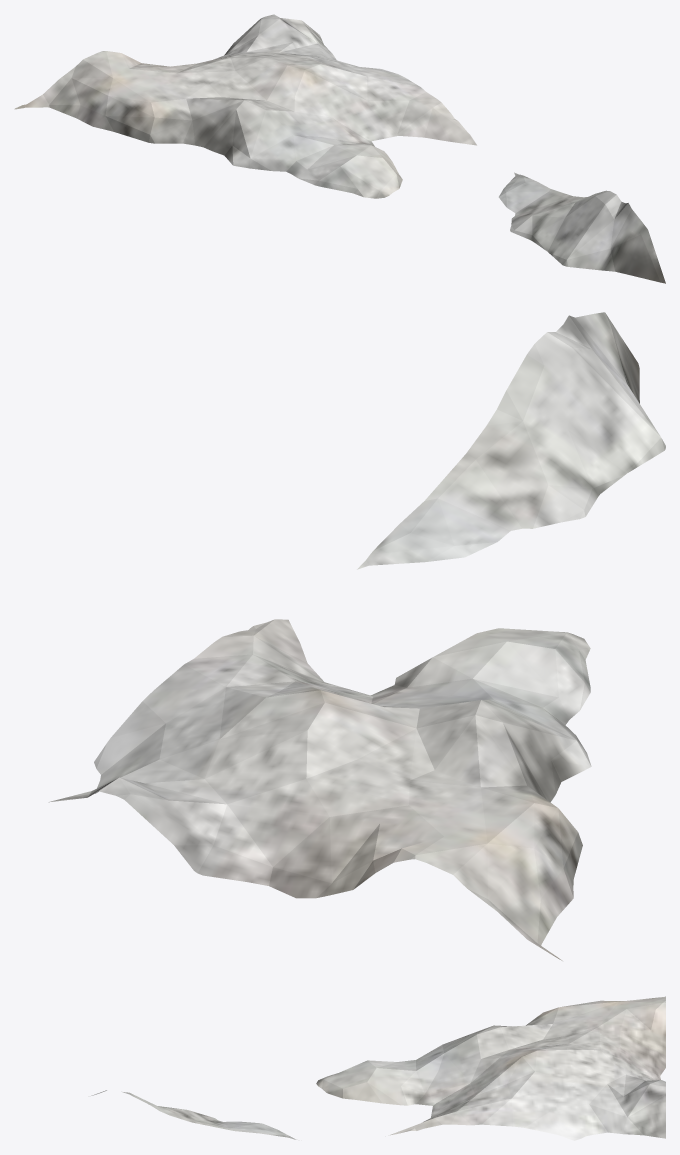
3 renders of one model, top to bottom at view 1: azimuth 30°, elevation 25°; view 2: azimuth 150°, elevation 25°; view 3: azimuth 270°, elevation 25°, orthographic. The views are drawn at different scales.
Bounding box in the file's own units: 1.38 × 0.2265 × 2.62.
1 material, 1 textured.
